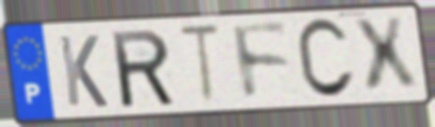C: (293, 15, 358, 103)
F: (228, 21, 293, 106)
K: (55, 33, 111, 110)
R: (108, 27, 179, 111)
T: (175, 22, 225, 109)
X: (349, 13, 423, 98)
